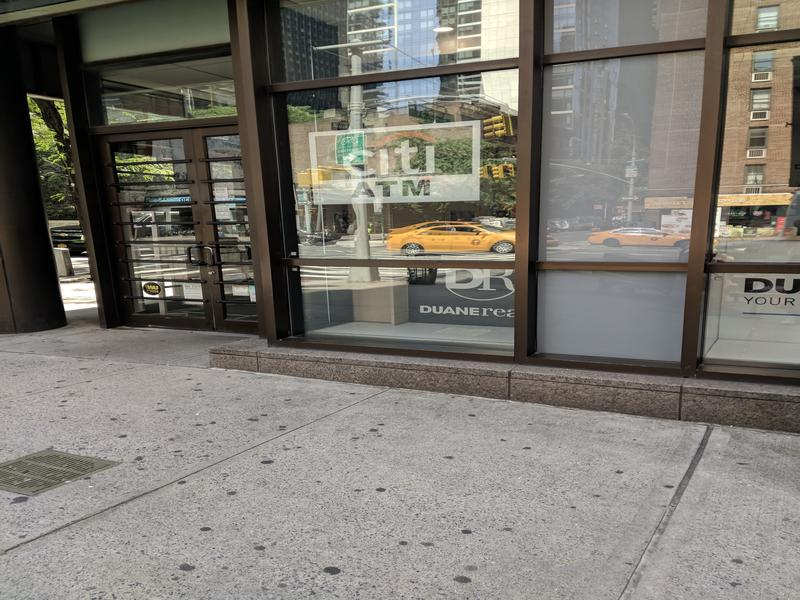double_door: (97, 122, 258, 336)
